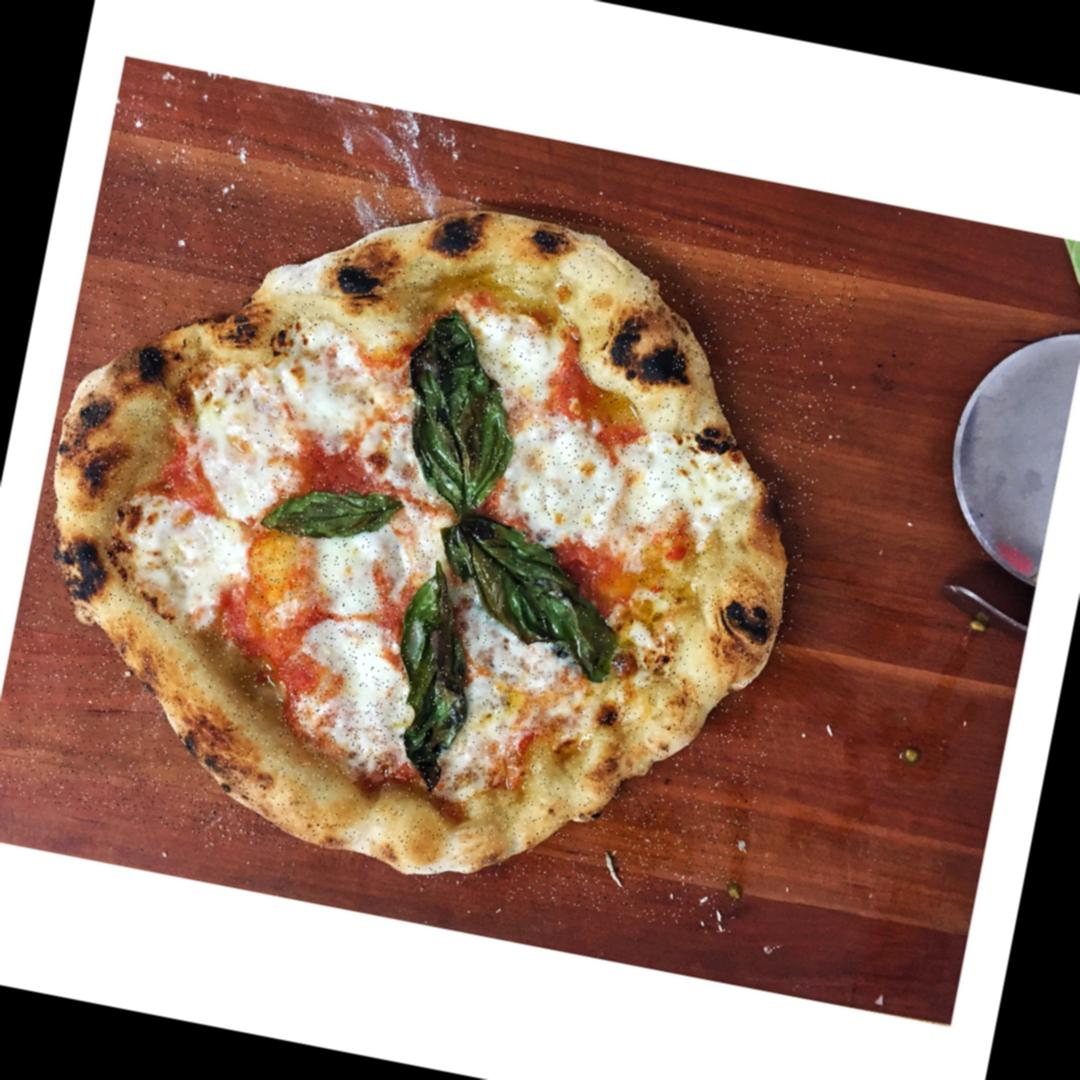Basil: (420, 507, 642, 687), (350, 536, 504, 783), (382, 306, 538, 526), (252, 468, 408, 550)
Cheese: (279, 538, 440, 783), (503, 417, 734, 552), (132, 414, 268, 625), (204, 340, 400, 451)
Pizza: (0, 105, 865, 938)
